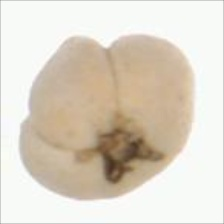L5: (28, 30, 121, 151), (83, 112, 169, 188)
L6: (15, 30, 200, 204)
